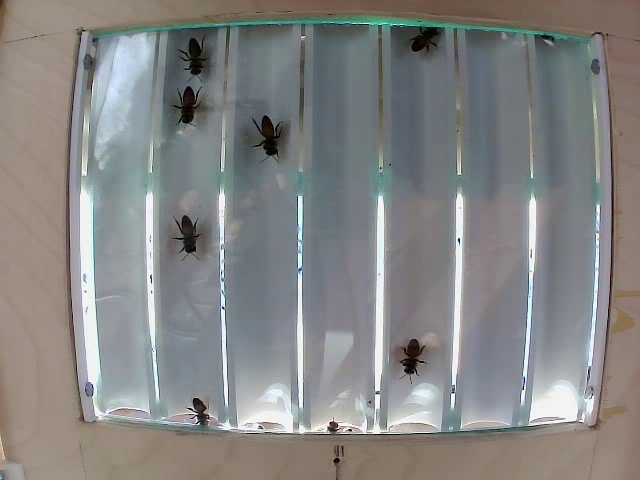bee: (167, 209, 215, 269), (251, 99, 288, 144), (172, 29, 217, 61), (179, 80, 206, 121), (406, 341, 432, 376)
